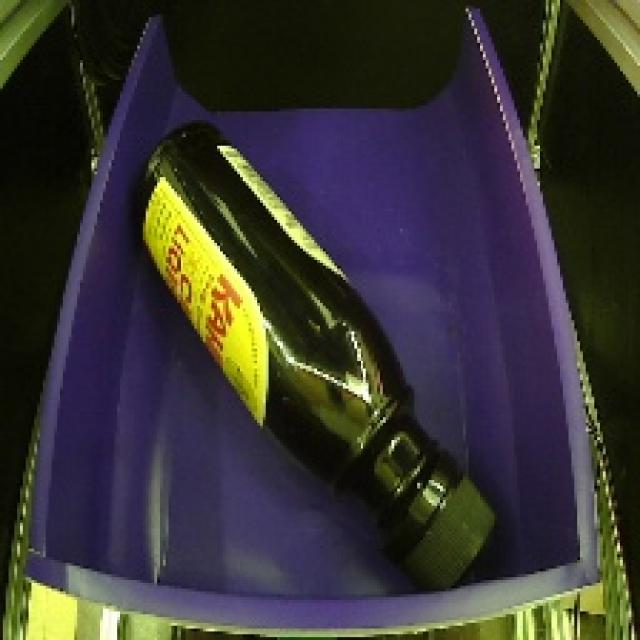plastic: (97, 102, 525, 603)
